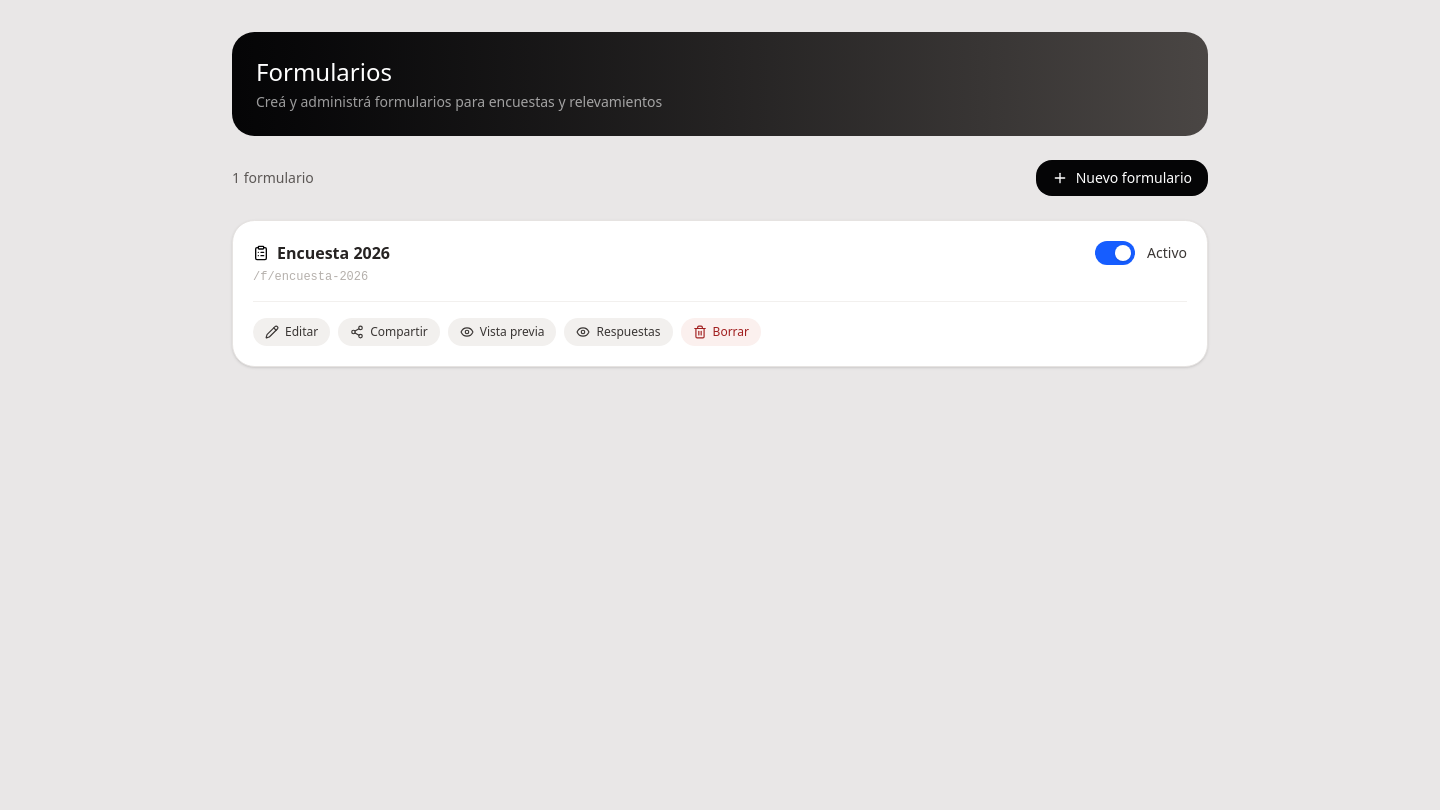
Test: FormulariosClient › opens the preview dialog from "Vista previa" and closes it with Escape
Click the button "Vista previa": (502, 332) left=448, top=318, right=556, bottom=346
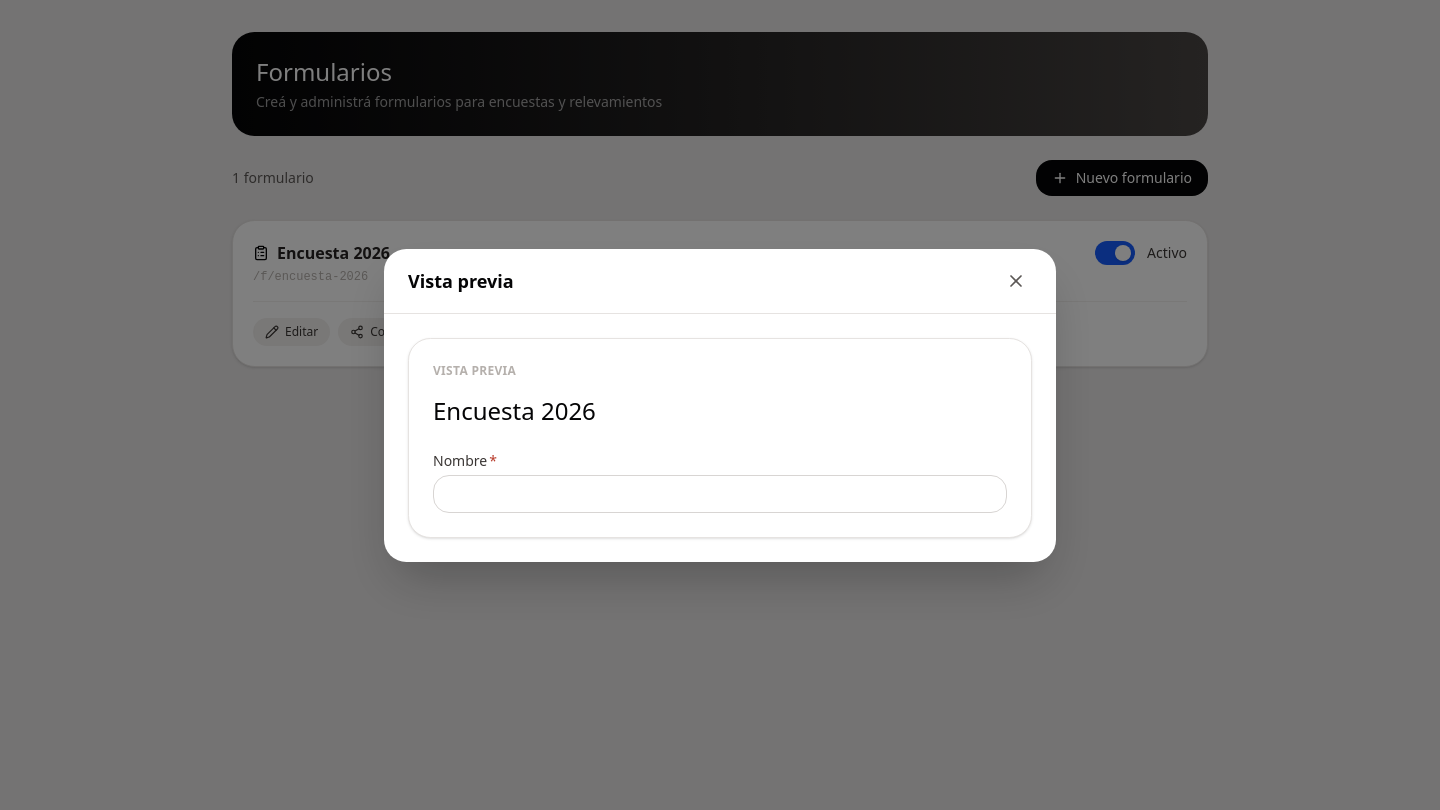
Expected: the heading "Encuesta 2026" is shown, left=433, top=394, right=596, bottom=426
Press Escape
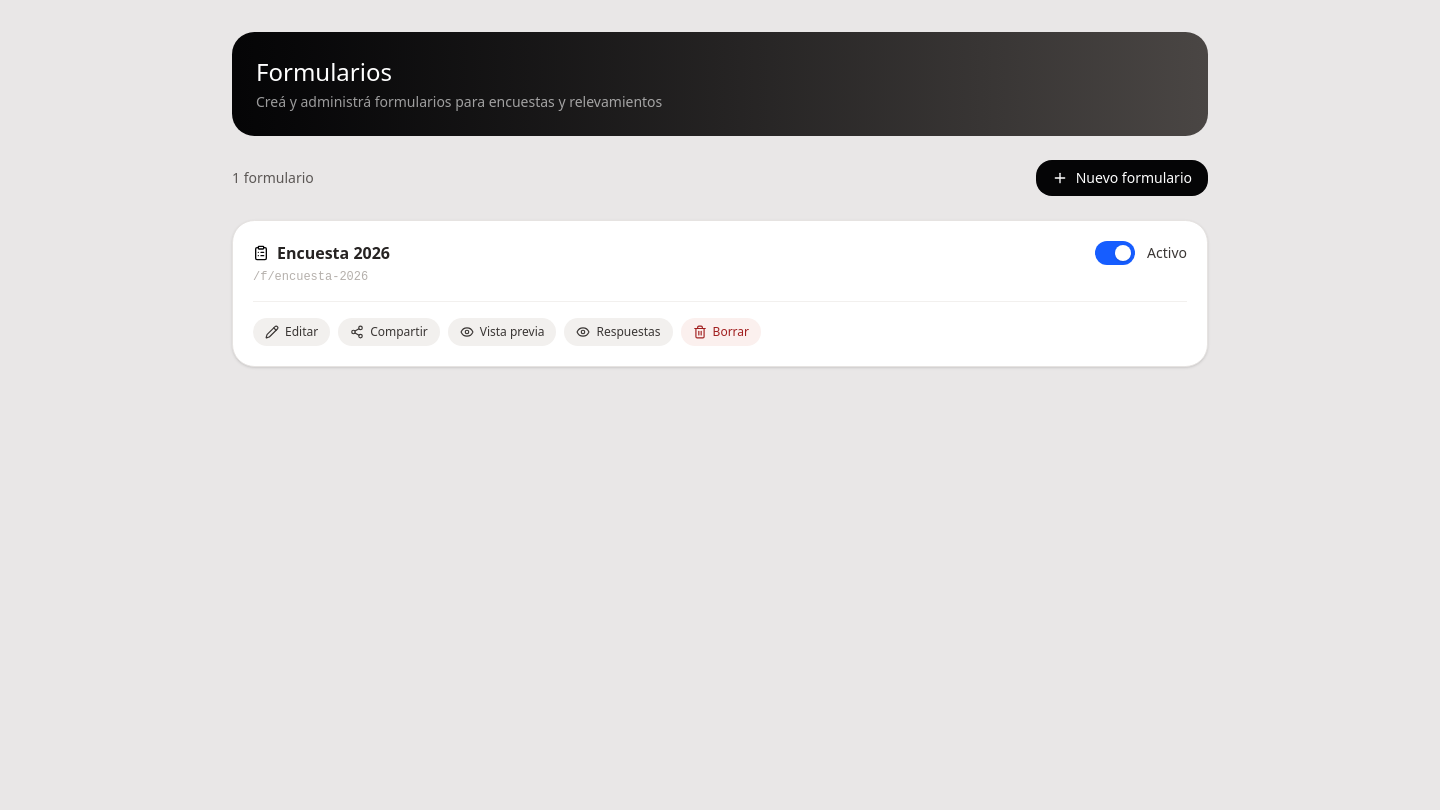
Expected: the dialog is gone
